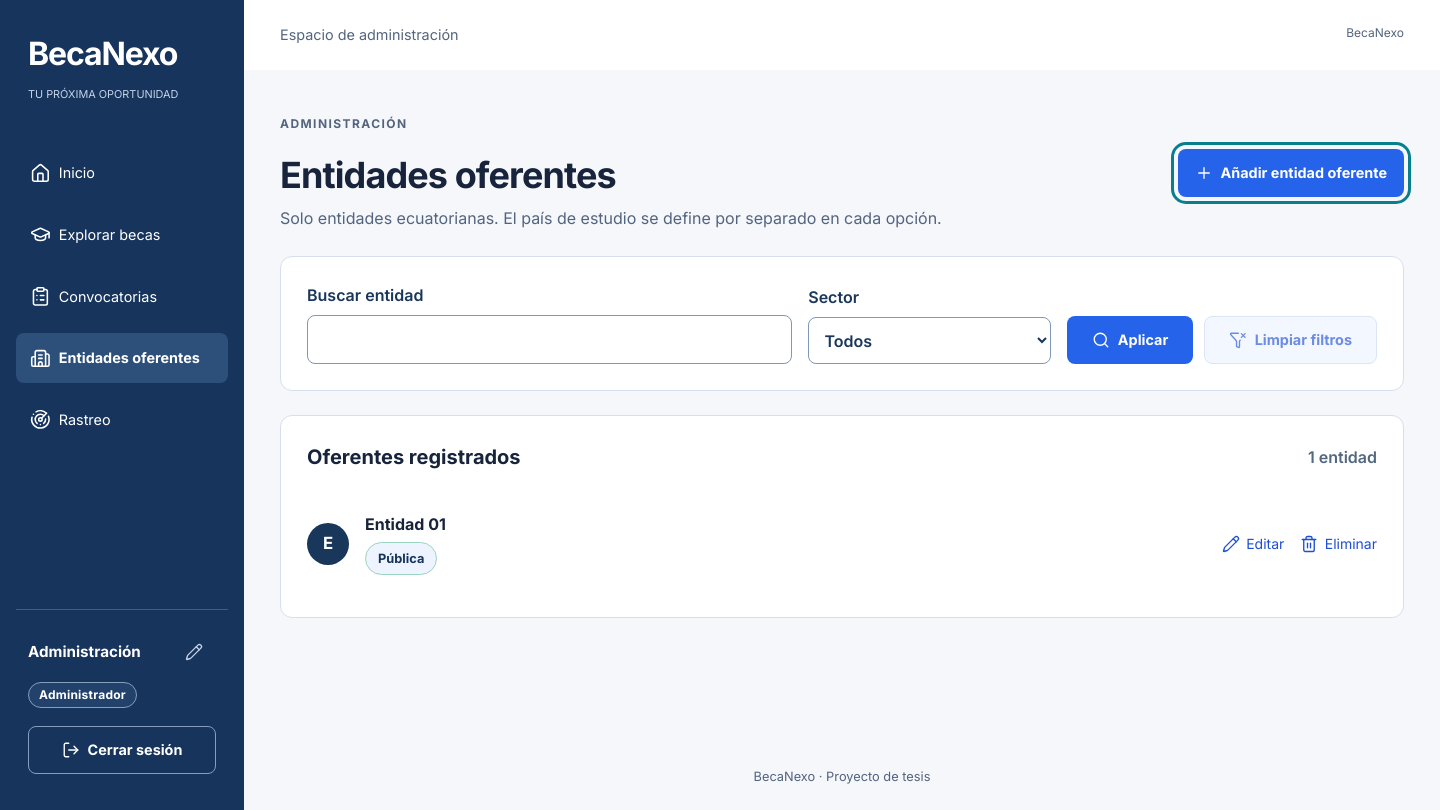
Test: «Añadir» abre la ventana emergente con foco en el primer campo; Cancelar la cierra y devuelve el foco
Expected: the text "Entidad 01" is shown, x1=365 y1=514 x2=446 y2=534
Click the button "Añadir entidad oferente". click: (1291, 173)
box: x1=1178 y1=149 x2=1404 y2=197
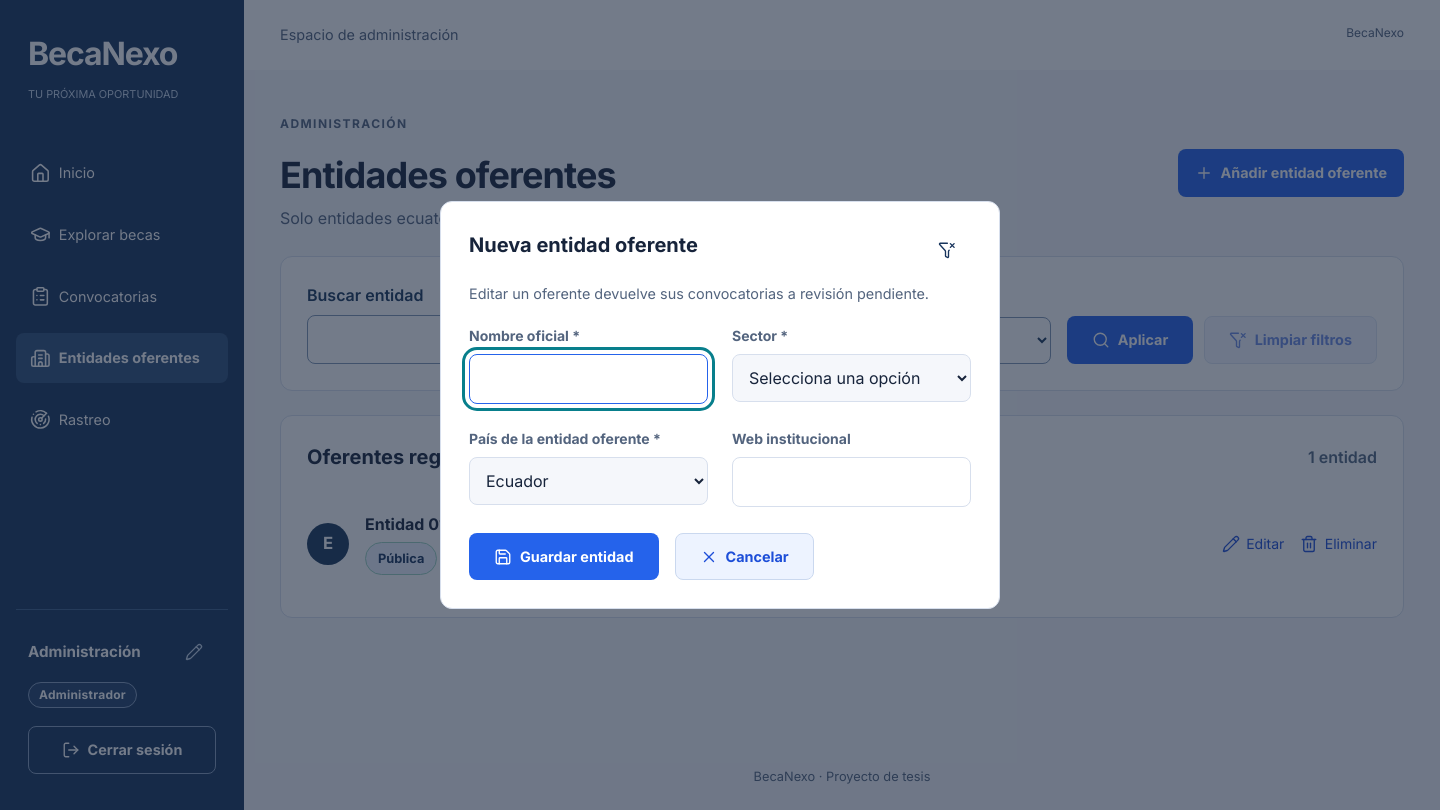
Expected: the dropdown labelled "Sector *" is shown, x1=732 y1=354 x2=971 y2=402
Expected: the dropdown labelled "País de la entidad oferente *" shows "Ecuador", x1=469 y1=457 x2=708 y2=505
Expected: the field labelled "Web institucional" is shown, x1=732 y1=457 x2=971 y2=507
Click the button "Cancelar". click: (744, 556)
box: x1=674 y1=533 x2=814 y2=580
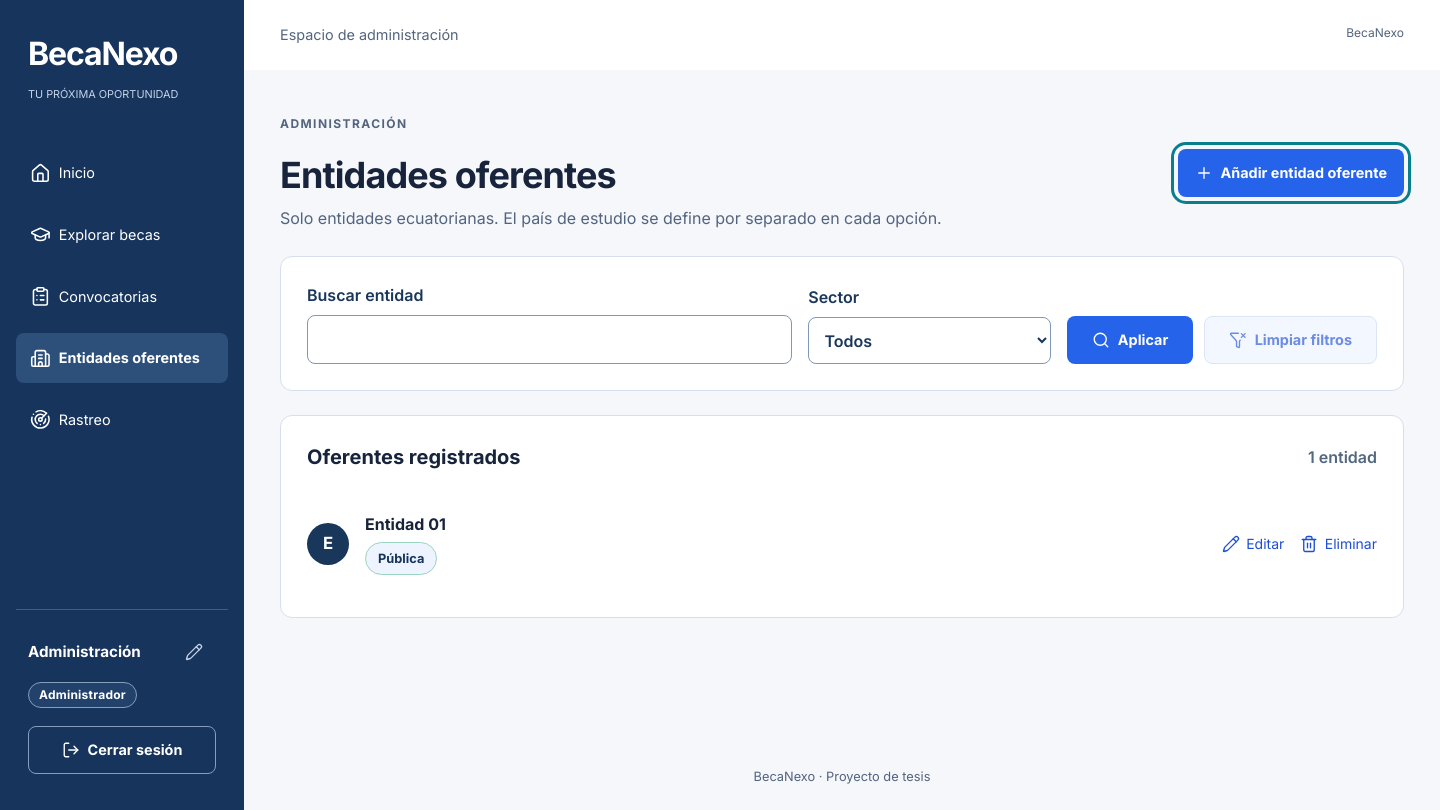
Expected: the dialog is gone
